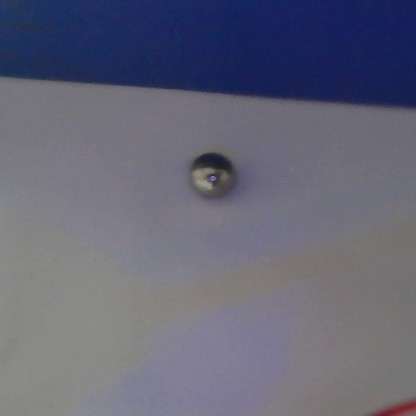ironball: (188, 151, 240, 204)
